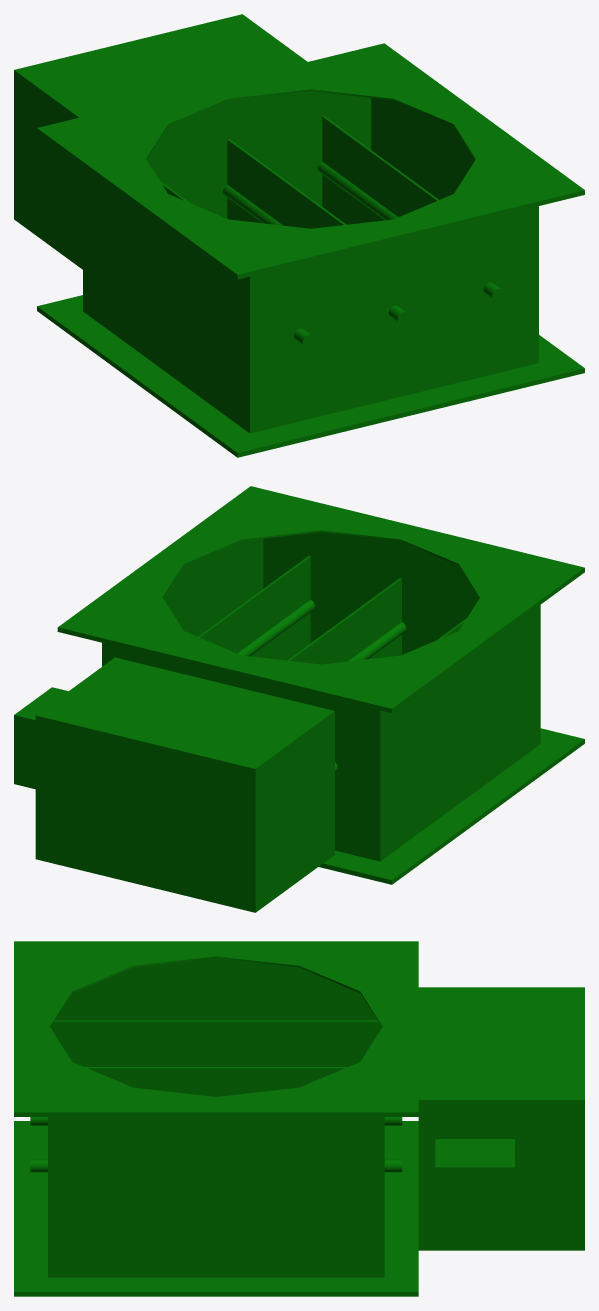
The model's file is Image-1710907700835-2280725630608_77-GS83_H.fbx.
3 renders of one model, top to bottom at view 1: azimuth 30°, elevation 25°; view 2: azimuth 150°, elevation 25°; view 3: azimuth 270°, elevation 25°, orthographic. The views are drawn at different scales.
Visible parts, largest first — view 1: BOX 1 of EQUIPMENT /77-GS83_H, BOX 9 of EQUIPMENT /77-GS83_H, BOX 2 of EQUIPMENT /77-GS83_H, BOX 10 of EQUIPMENT /77-GS83_H, BOX 6 of EQUIPMENT /77-GS83_H, BOX 4 of EQUIPMENT /77-GS83_H, BOX 7 of EQUIPMENT /77-GS83_H, BOX 8 of EQUIPMENT /77-GS83_H, CYLINDER 2 of EQUIPMENT /77-GS83_H, CYLINDER 1 of EQUIPMENT /77-GS83_H; view 2: BOX 2 of EQUIPMENT /77-GS83_H, BOX 1 of EQUIPMENT /77-GS83_H, BOX 9 of EQUIPMENT /77-GS83_H, BOX 10 of EQUIPMENT /77-GS83_H, BOX 6 of EQUIPMENT /77-GS83_H, BOX 4 of EQUIPMENT /77-GS83_H, BOX 3 of EQUIPMENT /77-GS83_H, BOX 7 of EQUIPMENT /77-GS83_H, CYLINDER 2 of EQUIPMENT /77-GS83_H, BOX 8 of EQUIPMENT /77-GS83_H, CYLINDER 1 of EQUIPMENT /77-GS83_H; view 3: BOX 1 of EQUIPMENT /77-GS83_H, BOX 2 of EQUIPMENT /77-GS83_H, BOX 9 of EQUIPMENT /77-GS83_H, BOX 10 of EQUIPMENT /77-GS83_H, BOX 5 of EQUIPMENT /77-GS83_H, BOX 3 of EQUIPMENT /77-GS83_H, BOX 4 of EQUIPMENT /77-GS83_H, BOX 7 of EQUIPMENT /77-GS83_H, BOX 8 of EQUIPMENT /77-GS83_H, CYLINDER 2 of EQUIPMENT /77-GS83_H.
Boxes of the visible parts, <box> form: BOX 1 of EQUIPMENT /77-GS83_H: <box>83,91,538,433</box>; BOX 9 of EQUIPMENT /77-GS83_H: <box>37,43,584,276</box>; BOX 2 of EQUIPMENT /77-GS83_H: <box>14,14,307,269</box>; BOX 10 of EQUIPMENT /77-GS83_H: <box>37,295,584,455</box>; BOX 6 of EQUIPMENT /77-GS83_H: <box>322,116,438,224</box>; BOX 4 of EQUIPMENT /77-GS83_H: <box>227,139,345,228</box>; BOX 7 of EQUIPMENT /77-GS83_H: <box>37,98,584,279</box>; BOX 8 of EQUIPMENT /77-GS83_H: <box>37,309,584,457</box>; CYLINDER 2 of EQUIPMENT /77-GS83_H: <box>317,161,503,300</box>; CYLINDER 1 of EQUIPMENT /77-GS83_H: <box>223,184,408,323</box>; BOX 2 of EQUIPMENT /77-GS83_H: <box>35,657,334,912</box>; BOX 1 of EQUIPMENT /77-GS83_H: <box>102,532,540,861</box>; BOX 9 of EQUIPMENT /77-GS83_H: <box>57,486,584,710</box>; BOX 10 of EQUIPMENT /77-GS83_H: <box>320,728,584,882</box>; BOX 6 of EQUIPMENT /77-GS83_H: <box>198,556,310,660</box>; BOX 4 of EQUIPMENT /77-GS83_H: <box>287,578,401,664</box>; BOX 3 of EQUIPMENT /77-GS83_H: <box>14,687,68,789</box>; BOX 7 of EQUIPMENT /77-GS83_H: <box>57,538,584,713</box>; CYLINDER 2 of EQUIPMENT /77-GS83_H: <box>237,600,314,656</box>; BOX 8 of EQUIPMENT /77-GS83_H: <box>318,742,584,884</box>; CYLINDER 1 of EQUIPMENT /77-GS83_H: <box>348,622,406,661</box>; BOX 1 of EQUIPMENT /77-GS83_H: <box>48,961,384,1277</box>; BOX 2 of EQUIPMENT /77-GS83_H: <box>418,987,584,1250</box>; BOX 9 of EQUIPMENT /77-GS83_H: <box>14,941,418,1113</box>; BOX 10 of EQUIPMENT /77-GS83_H: <box>14,1121,418,1294</box>; BOX 5 of EQUIPMENT /77-GS83_H: <box>50,1020,381,1066</box>; BOX 3 of EQUIPMENT /77-GS83_H: <box>435,1139,514,1239</box>; BOX 4 of EQUIPMENT /77-GS83_H: <box>86,1067,346,1096</box>; BOX 7 of EQUIPMENT /77-GS83_H: <box>14,958,418,1116</box>; BOX 8 of EQUIPMENT /77-GS83_H: <box>14,1295,418,1296</box>; CYLINDER 2 of EQUIPMENT /77-GS83_H: <box>30,1159,402,1172</box>.
Bounding box in the file's own units: 0.608 × 0.858 × 0.306.
